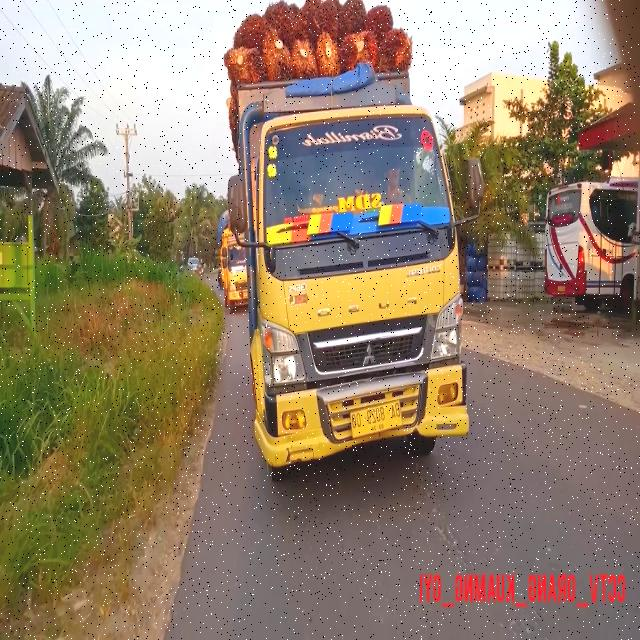truck: (226, 0, 481, 471)
